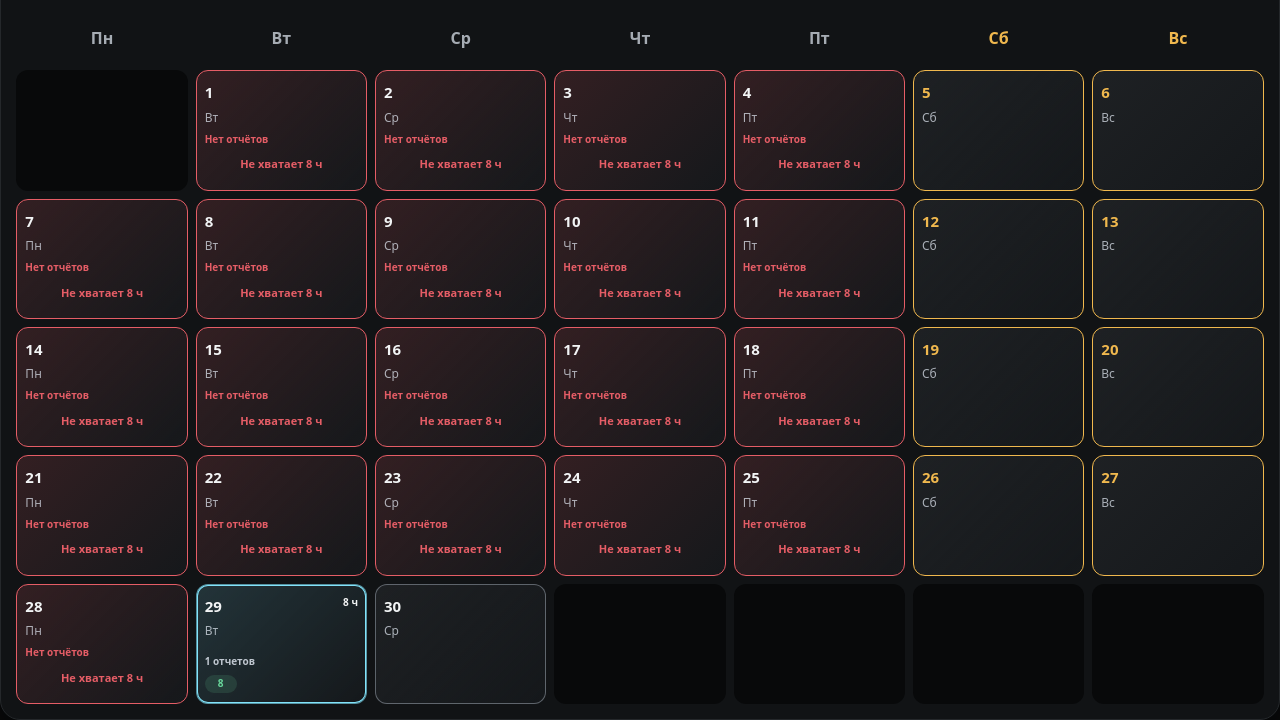
Test: month calendar hour warnings › does not show today's deficit summary once the selected employee reaches eight hours
This screenshot has width=1280, height=720.
(page scrolled)
Click the button with aria-label "29 сентября:".
click(281, 644)  # box [196,584,367,704]
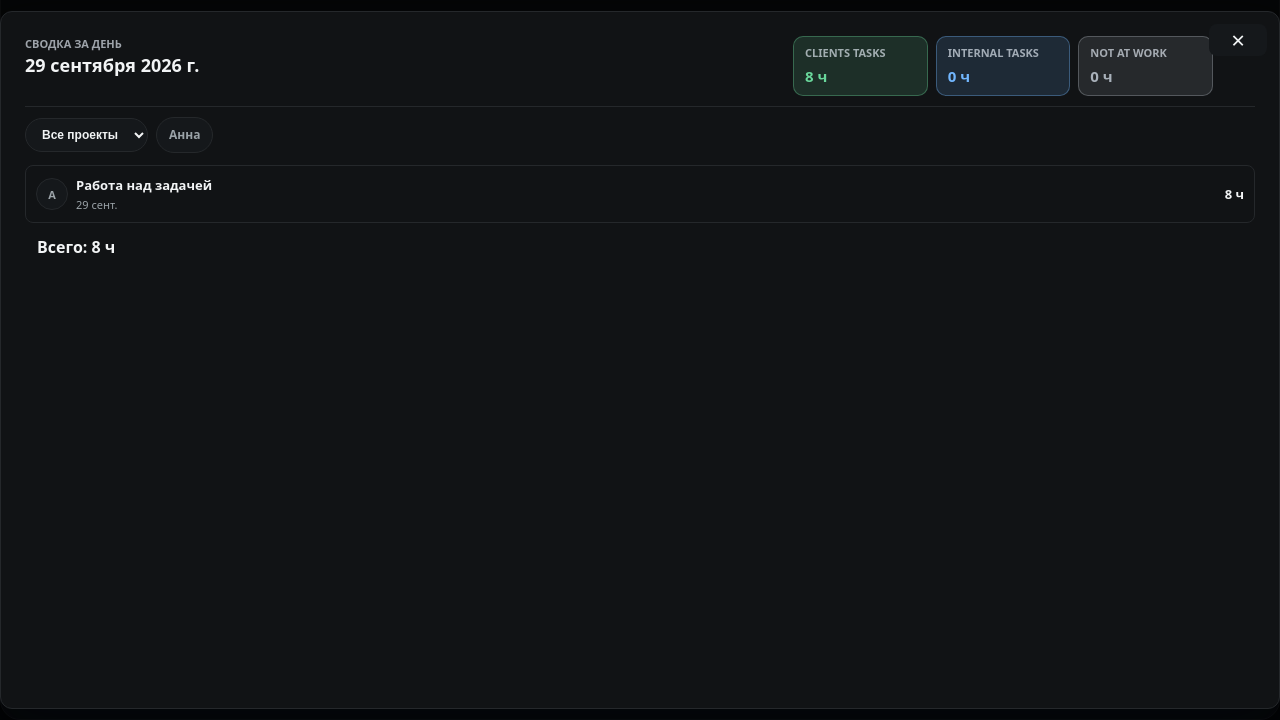
Check: the dialog is shown
